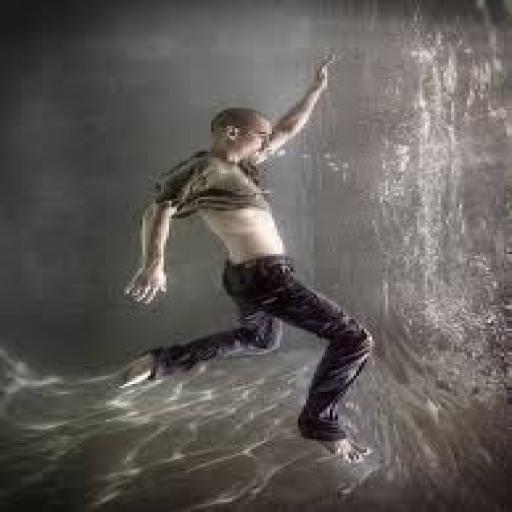dancing: (119, 51, 380, 465)
